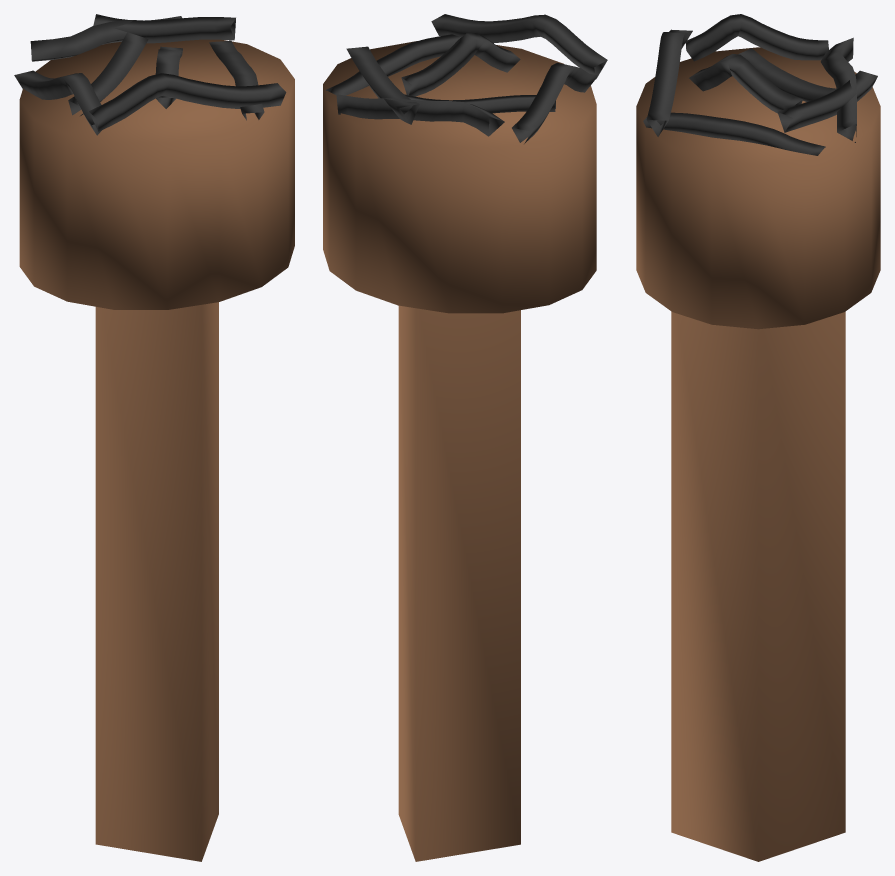
Rendered from torche2.obj.
3 views of the same model, side by side, from view 1: azimuth 30°, elevation 25°; view 2: azimuth 150°, elevation 25°; view 3: azimuth 270°, elevation 25° (orthographic).
Visible parts, largest first — view 1: Lamp, Wick5, Wick4, Wick3, Wick2, Wick4_1, Wick1, Wick2_1; view 2: Lamp, Wick5, Wick3, Wick2_1, Wick2, Wick1, Wick4, Wick4_1; view 3: Lamp, Wick2, Wick1, Wick2_1, Wick5, Wick4, Wick3, Wick4_1.
Boxes of the visible parts, box(x1,y1,x2,y2) form: Lamp: box(19, 39, 294, 861); Wick5: box(89, 73, 286, 131); Wick4: box(93, 14, 235, 43); Wick3: box(30, 16, 182, 61); Wick2: box(14, 70, 101, 135); Wick4_1: box(68, 32, 148, 115); Wick1: box(209, 40, 264, 120); Wick2_1: box(155, 46, 182, 108); Lamp: box(323, 41, 596, 861); Wick5: box(431, 14, 607, 78); Wick3: box(336, 94, 504, 136); Wick2_1: box(401, 33, 520, 96); Wick2: box(512, 62, 598, 143); Wick1: box(326, 34, 461, 95); Wick4: box(346, 46, 419, 124); Wick4_1: box(404, 94, 555, 113); Lamp: box(636, 47, 880, 861); Wick2: box(685, 14, 828, 61); Wick1: box(643, 112, 825, 155); Wick2_1: box(689, 54, 802, 113); Wick5: box(646, 29, 692, 136); Wick4: box(777, 70, 877, 132); Wick3: box(820, 37, 856, 142); Wick4_1: box(738, 48, 837, 101).
Bounding box in the file's own units: 0.54 × 1.66 × 0.4725.
